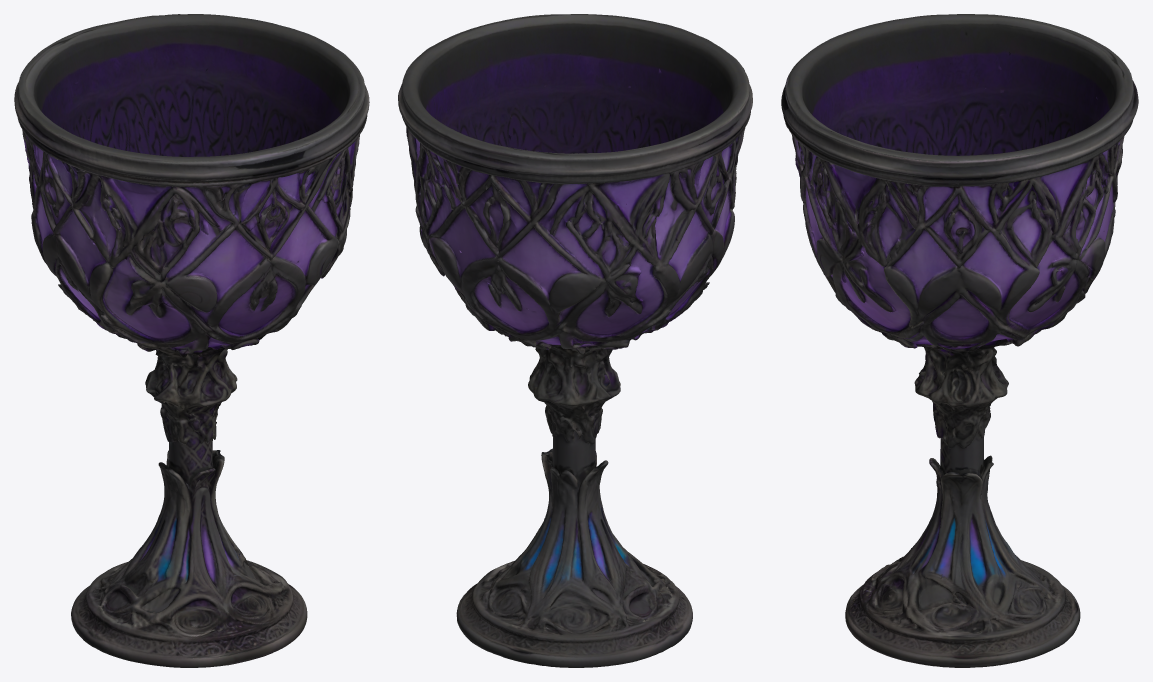
The model's file is goblet.glb.
3 views of the same model, side by side, from view 1: azimuth 30°, elevation 25°; view 2: azimuth 150°, elevation 25°; view 3: azimuth 270°, elevation 25° (orthographic).
Visible parts, largest first — view 1: Mesh_0; view 2: Mesh_0; view 3: Mesh_0.
Boxes of the visible parts, left/top/right/bottom form: Mesh_0: left=14, top=14, right=369, bottom=667; Mesh_0: left=398, top=14, right=752, bottom=667; Mesh_0: left=781, top=14, right=1138, bottom=667.
Size of the model in its own units: 1.21 by 2 by 1.21.
1 material, 1 textured.
